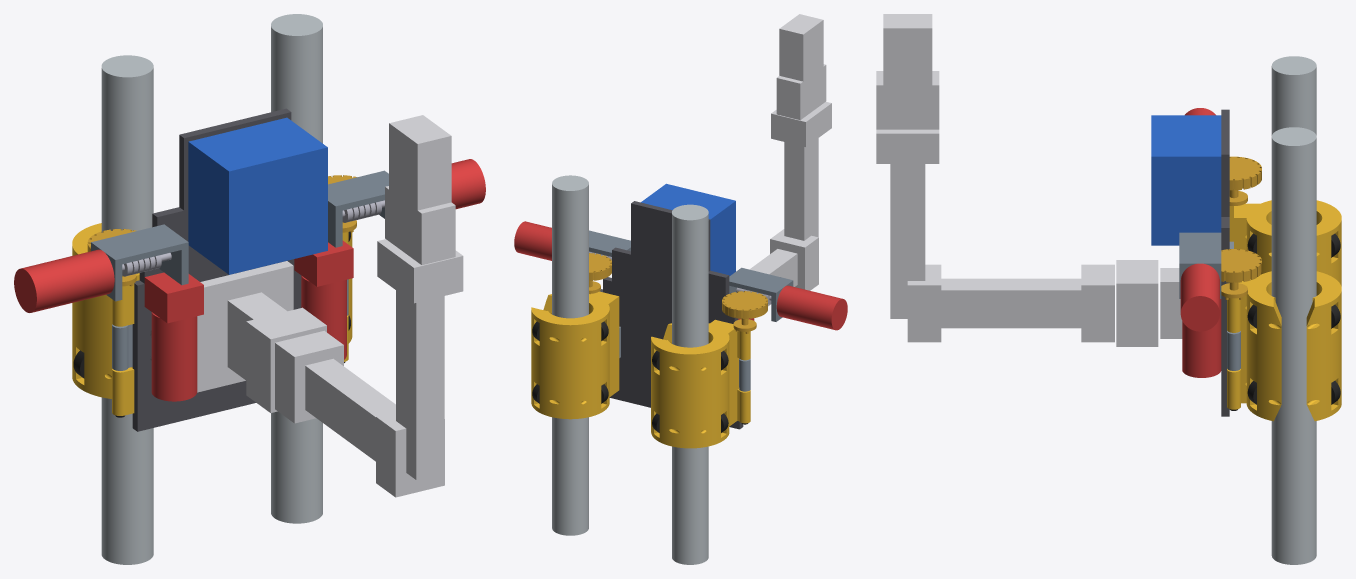
The model's file is cart_assembly.glb.
The picture shows the model from 3 angles, left to right: view 1: azimuth 30°, elevation 25°; view 2: azimuth 150°, elevation 25°; view 3: azimuth 270°, elevation 25°; orthographic projection. The views are drawn at different scales.
Visible parts, largest first — view 1: so101_arm_envelope, battery, track_pipe_B, track_pipe_C, drive_motors, base_plate, hinge_pipe_B_worm_motor, hand_on_pipe_B_sleeve, hinge_pipe_B_worm_bracket, hinge_pipe_C_worm_bracket, hinge_pipe_B_sleeve_leaf_knuckles, hinge_pipe_C_worm_motor (+2 smaller); view 2: so101_arm_envelope, base_plate, track_pipe_C, track_pipe_B, hand_on_pipe_C_sleeve, hand_on_pipe_B_sleeve, battery, hinge_pipe_B_worm_motor, hinge_pipe_B_worm_wheel_hub, hinge_pipe_B_worm_bracket, hinge_pipe_C_worm_motor, hinge_pipe_B_sleeve_leaf_knuckles (+4 smaller); view 3: so101_arm_envelope, track_pipe_C, hand_on_pipe_C_sleeve, battery, hand_on_pipe_B_sleeve, track_pipe_B, hinge_pipe_C_worm_motor, base_plate, drive_motors, hinge_pipe_C_worm_bracket, hinge_pipe_C_worm_wheel_hub, hinge_pipe_B_worm_wheel_hub (+2 smaller).
Part boxes in pixels (<box>): so101_arm_envelope: <box>197,115,463,497</box>; battery: <box>188,117,327,274</box>; track_pipe_B: <box>101,55,153,564</box>; track_pipe_C: <box>271,14,322,523</box>; drive_motors: <box>144,240,353,401</box>; base_plate: <box>132,108,301,431</box>; hinge_pipe_B_worm_motor: <box>14,249,114,312</box>; hand_on_pipe_B_sleeve: <box>72,223,112,398</box>; hinge_pipe_B_worm_bracket: <box>91,224,188,301</box>; hinge_pipe_C_worm_bracket: <box>328,170,388,247</box>; hinge_pipe_B_sleeve_leaf_knuckles: <box>112,273,139,415</box>; hinge_pipe_C_worm_motor: <box>451,159,485,209</box>; so101_arm_envelope: <box>749,14,831,306</box>; base_plate: <box>599,201,743,429</box>; track_pipe_C: <box>552,175,588,535</box>; track_pipe_B: <box>672,204,708,564</box>; hand_on_pipe_C_sleeve: <box>531,292,617,419</box>; hand_on_pipe_B_sleeve: <box>651,321,737,448</box>; battery: <box>641,183,735,276</box>; hinge_pipe_B_worm_motor: <box>776,285,847,330</box>; hinge_pipe_B_worm_wheel_hub: <box>722,291,767,333</box>; hinge_pipe_B_worm_bracket: <box>729,267,793,321</box>; hinge_pipe_C_worm_motor: <box>514,221,551,260</box>; hinge_pipe_B_sleeve_leaf_knuckles: <box>714,319,750,423</box>; so101_arm_envelope: <box>876,14,1182,346</box>; track_pipe_C: <box>1271,127,1316,564</box>; hand_on_pipe_C_sleeve: <box>1238,271,1341,421</box>; battery: <box>1151,115,1221,245</box>; hand_on_pipe_B_sleeve: <box>1238,200,1341,286</box>; track_pipe_B: <box>1271,56,1316,135</box>; hinge_pipe_C_worm_motor: <box>1180,263,1219,331</box>; base_plate: <box>1221,109,1229,416</box>; drive_motors: <box>1182,299,1221,377</box>; hinge_pipe_C_worm_bracket: <box>1179,232,1221,298</box>; hinge_pipe_C_worm_wheel_hub: <box>1221,249,1261,299</box>; hinge_pipe_B_worm_wheel_hub: <box>1229,156,1261,205</box>.
Size of the model in its own units: 318 by 388 by 332.
